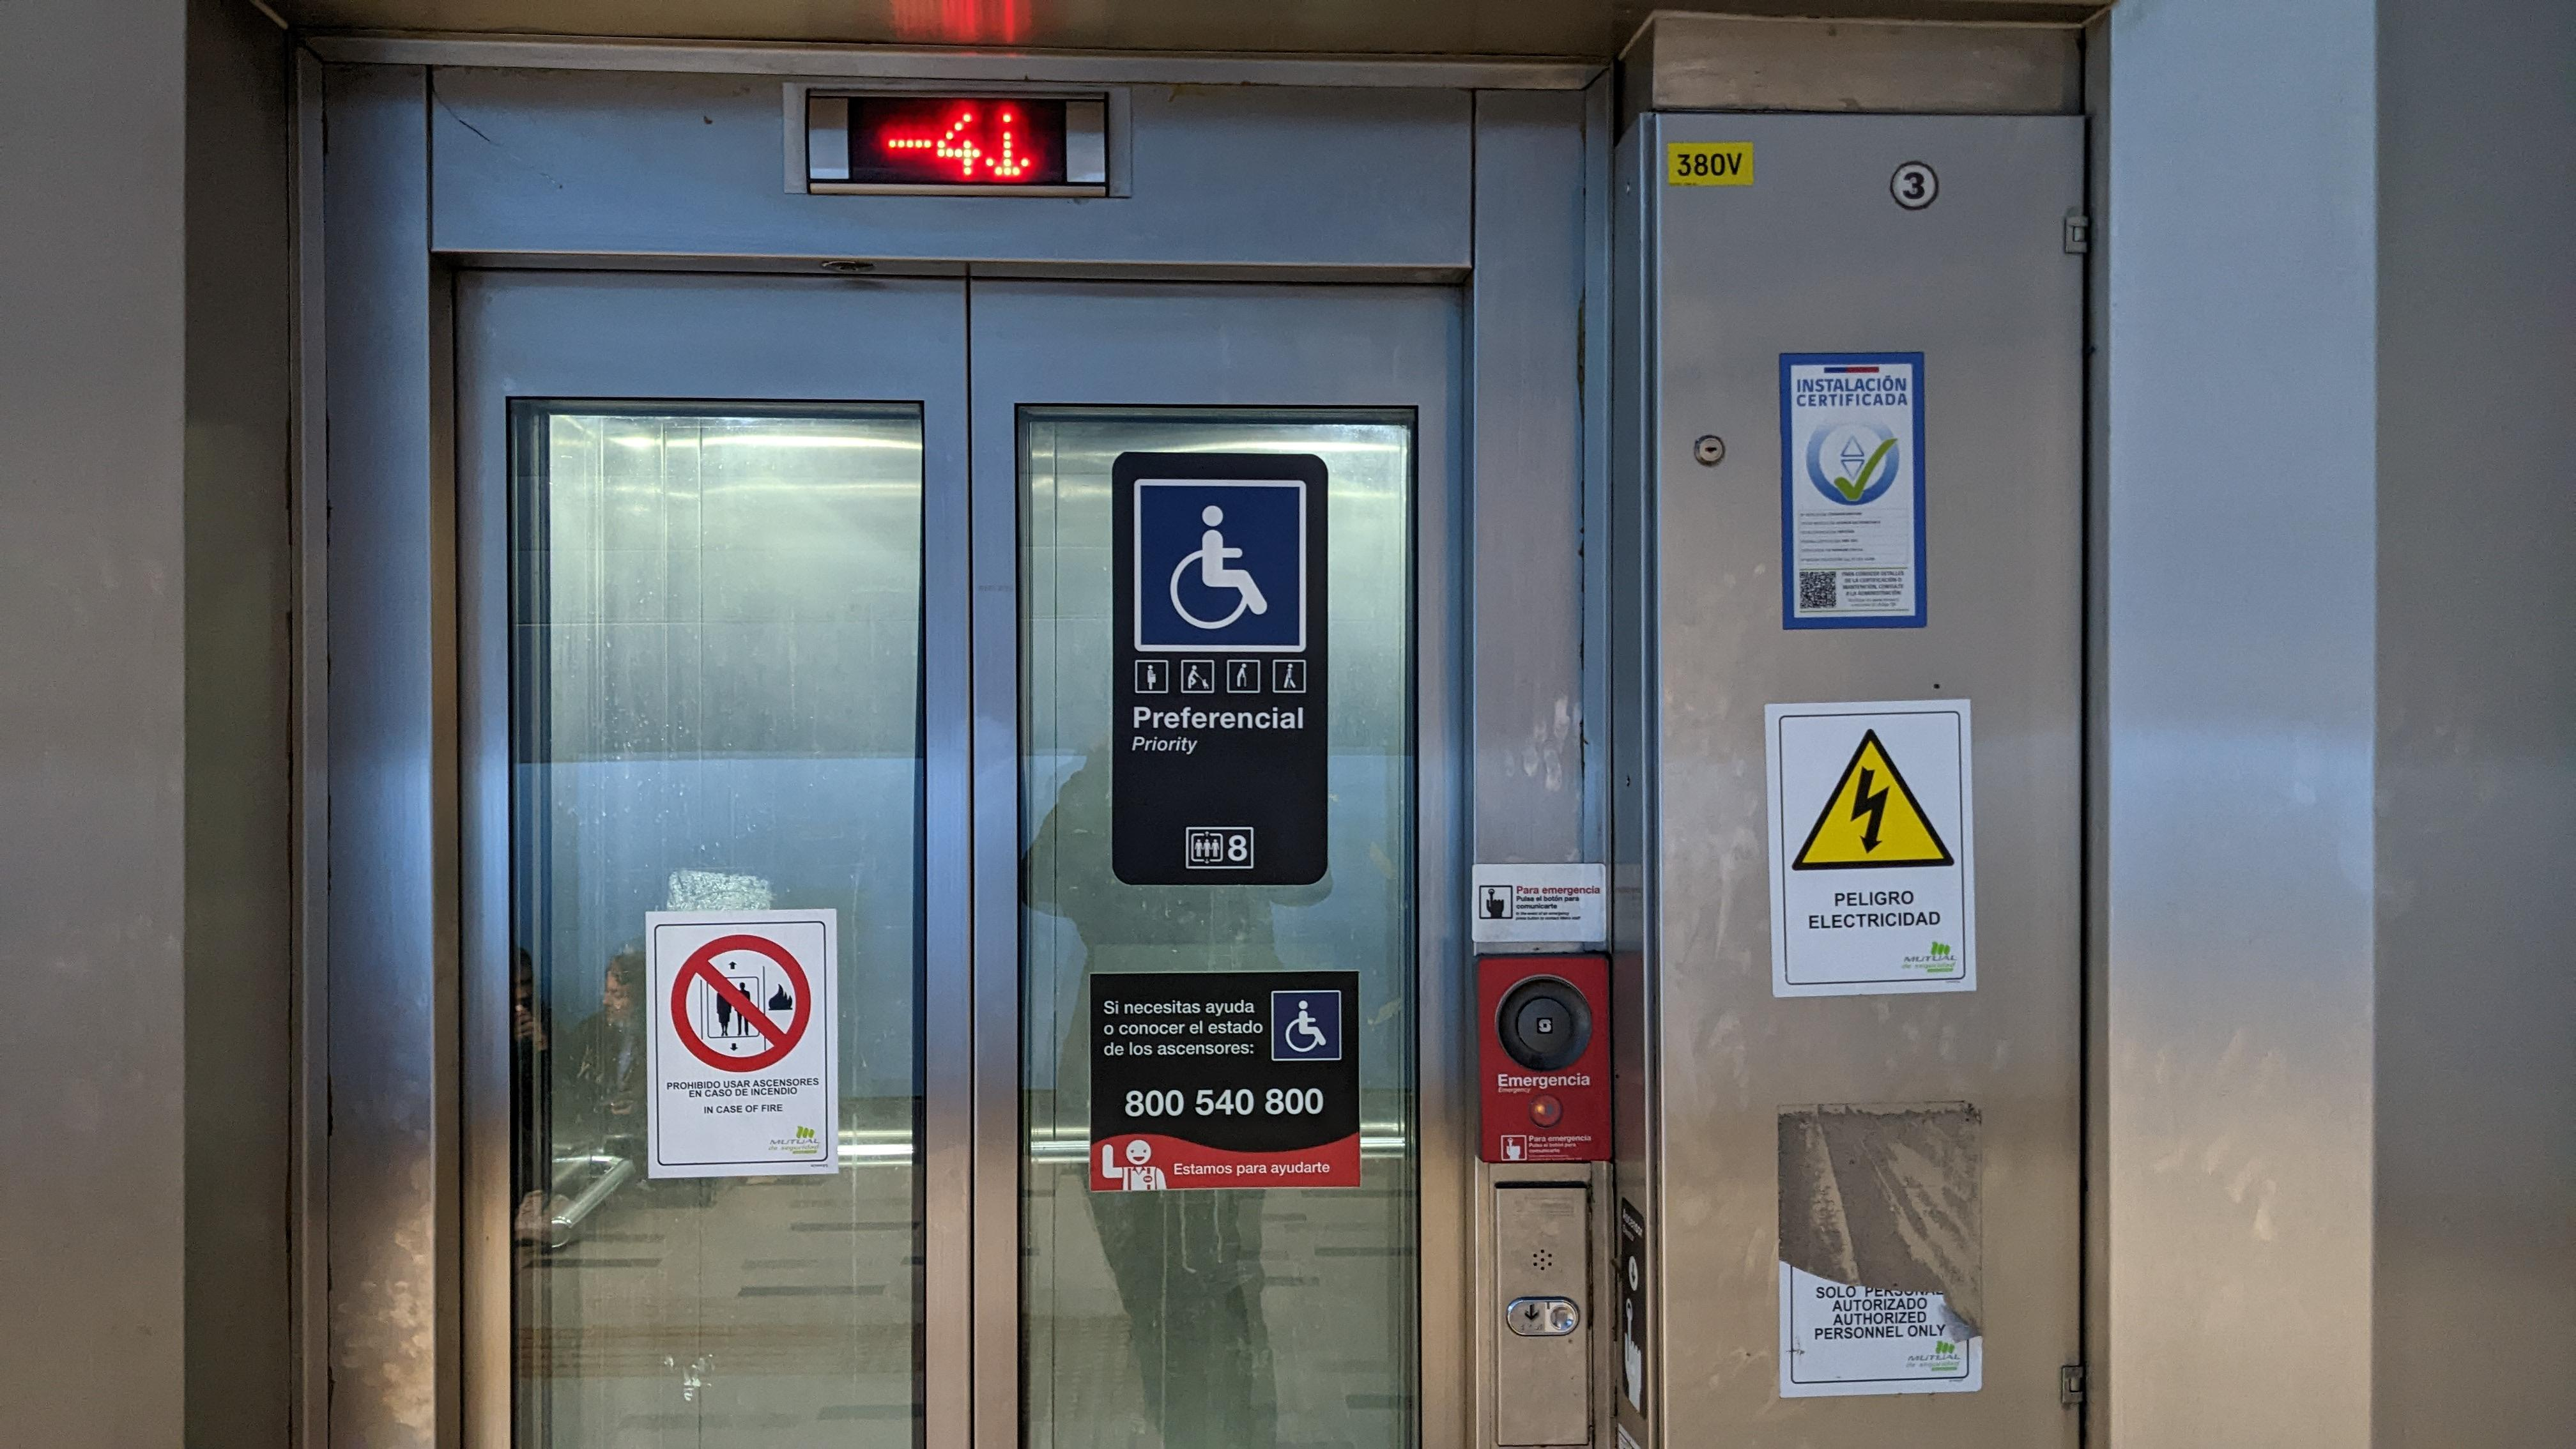danger-electricity: (1790, 724, 1959, 876)
handicapped symbol: (1166, 504, 1272, 635), (1284, 998, 1327, 1054)
